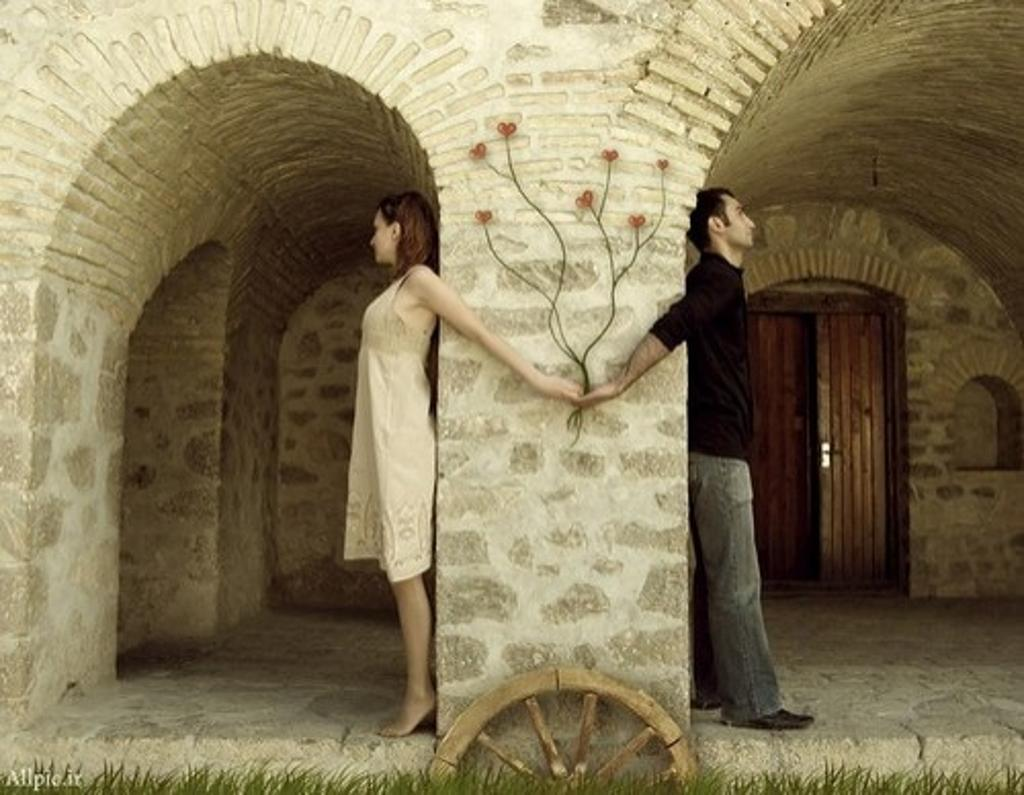face: (368, 205, 400, 265), (722, 192, 754, 248)
